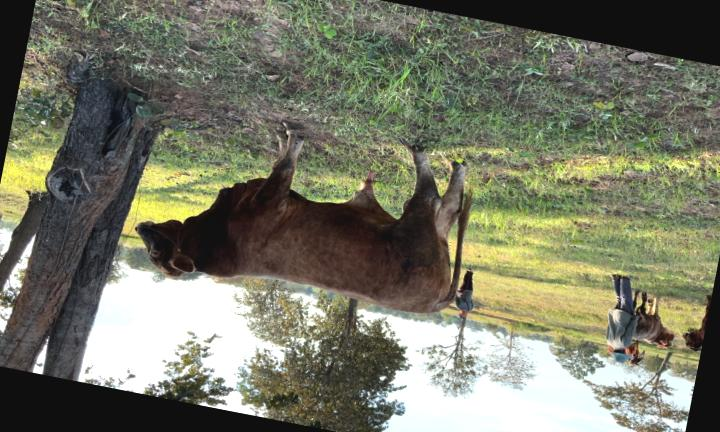Charolais: (135, 122, 471, 313)
